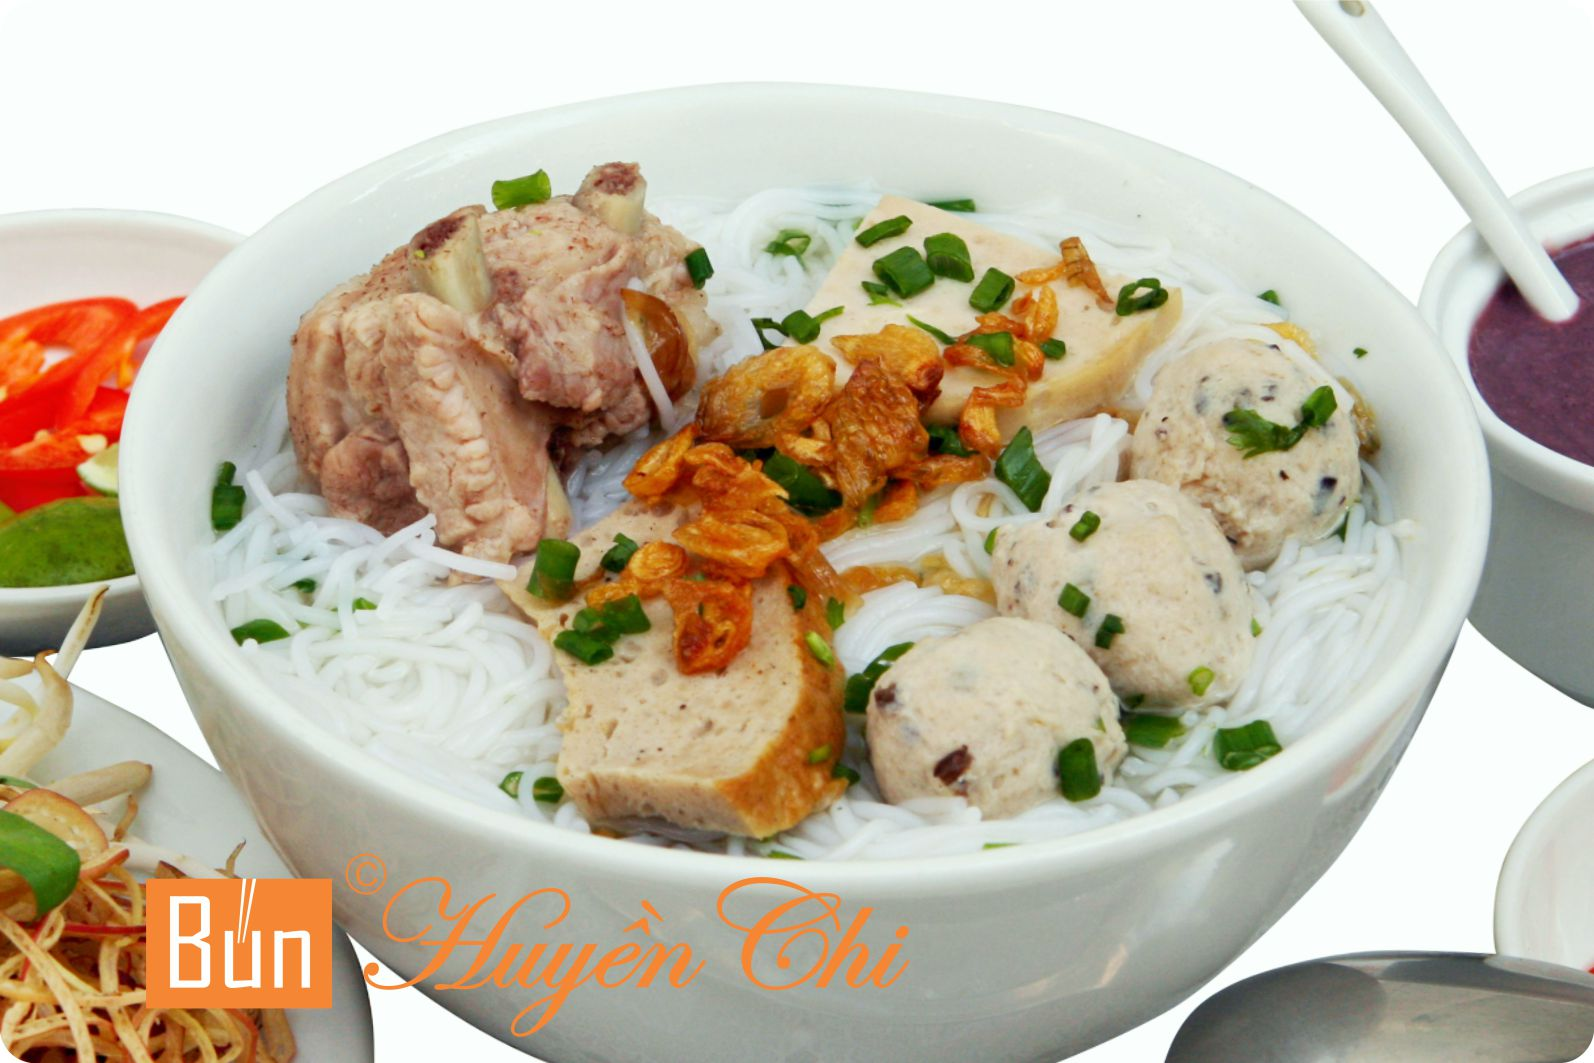chamoc: (499, 513, 840, 846), (774, 190, 1178, 431), (1000, 477, 1252, 708), (1124, 346, 1367, 571), (865, 631, 1121, 809)
pork: (292, 185, 570, 554), (476, 135, 732, 446)
